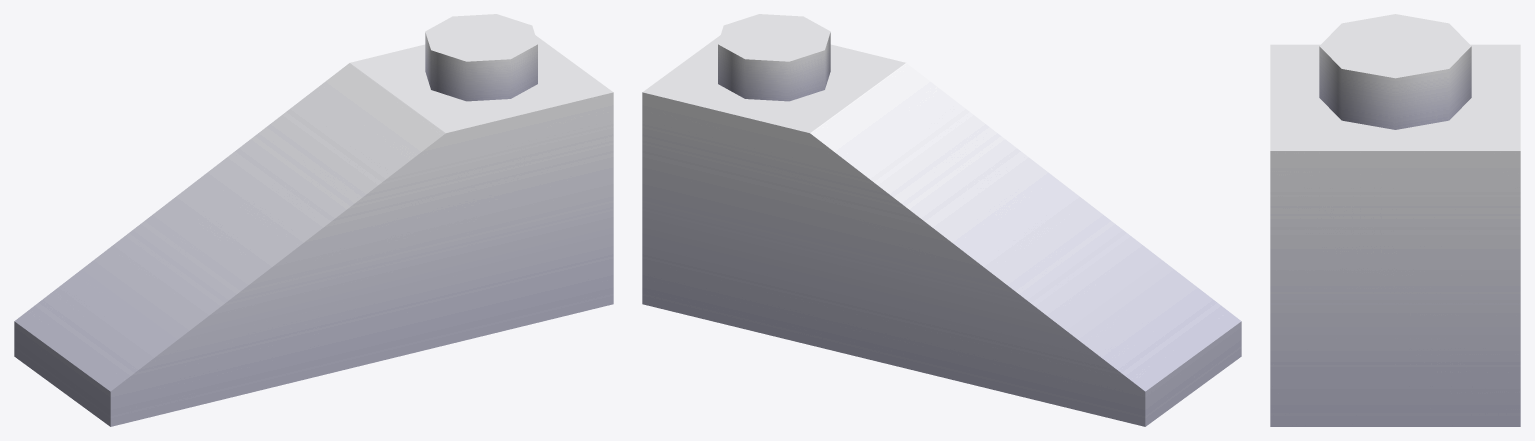
File: round-lq-brick-slope-3x1.glb
3 views of the same model, side by side, from view 1: azimuth 30°, elevation 25°; view 2: azimuth 150°, elevation 25°; view 3: azimuth 270°, elevation 25° (orthographic). The views are drawn at different scales.
Parts seen in each view (by area): view 1: round-lq-brick-slope-3x1; view 2: round-lq-brick-slope-3x1; view 3: round-lq-brick-slope-3x1.
Part boxes in pixels (box(x1,y1,x2,y2)): round-lq-brick-slope-3x1: box(14, 14, 613, 426); round-lq-brick-slope-3x1: box(642, 14, 1241, 426); round-lq-brick-slope-3x1: box(1270, 14, 1520, 426).
Bounding box in the file's own units: 1.19 × 0.57 × 0.395.
1 material, 1 textured.
